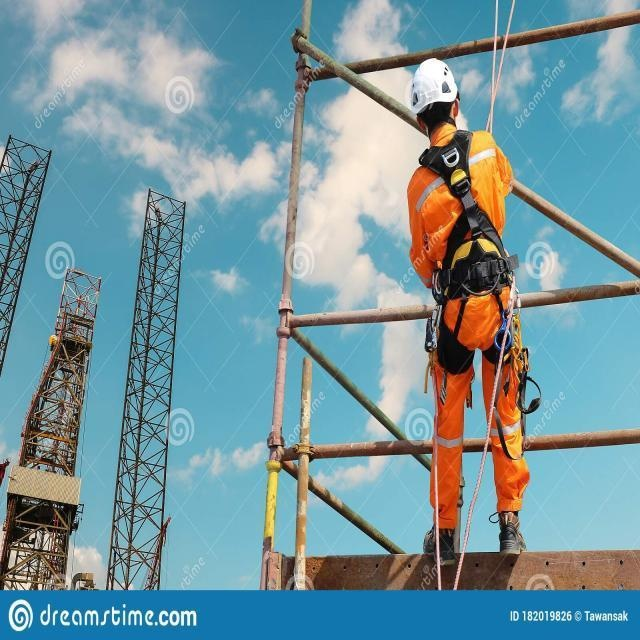Arnes_seguridad: (418, 133, 523, 366)
